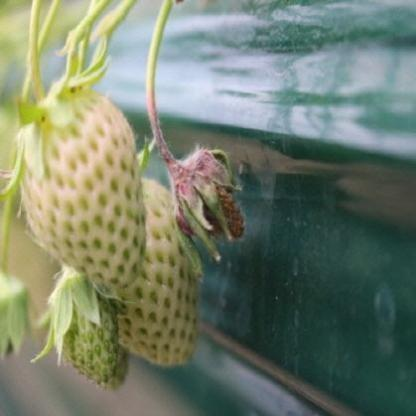Strawberry_Gray_Mold: (154, 130, 247, 284)
